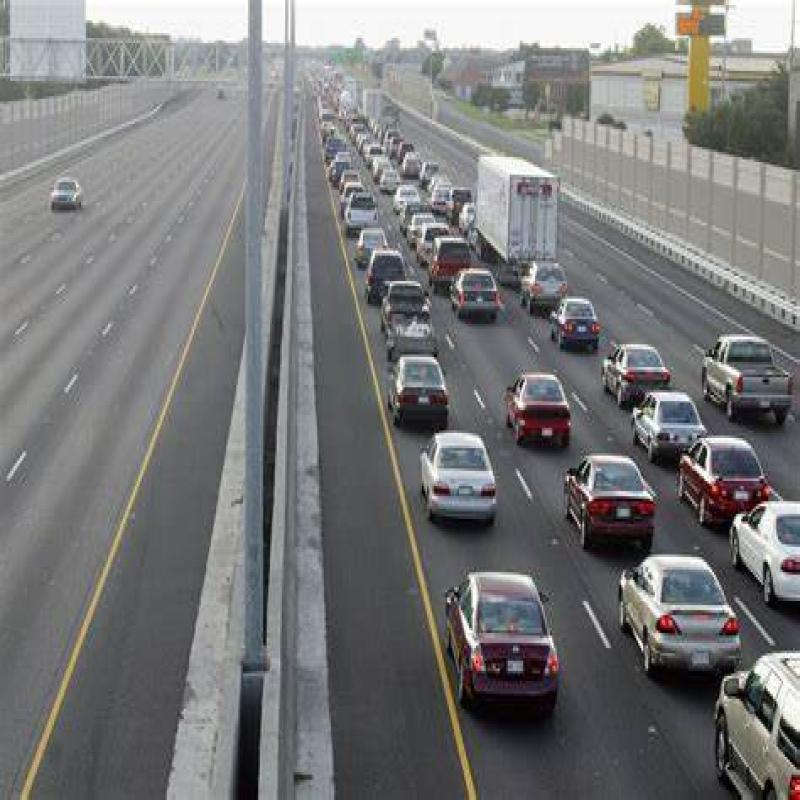car: (616, 554, 743, 697), (443, 563, 560, 704), (702, 640, 798, 800), (568, 451, 656, 565), (416, 414, 497, 529), (726, 494, 800, 619), (708, 322, 795, 422), (380, 342, 456, 435), (688, 429, 760, 526), (636, 385, 704, 464), (380, 288, 444, 370), (500, 369, 566, 442), (610, 328, 665, 406), (552, 286, 604, 364), (554, 290, 612, 354), (358, 250, 415, 312), (455, 262, 507, 324), (524, 256, 574, 310), (45, 176, 88, 218), (340, 190, 377, 231)
